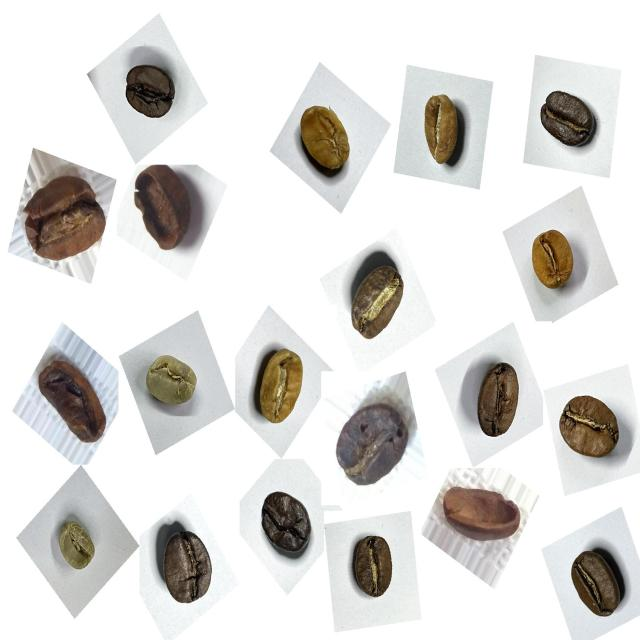bad: (17, 158, 115, 275), (326, 385, 416, 498), (32, 346, 115, 452), (125, 156, 208, 260), (440, 474, 522, 556)
dark: (151, 519, 226, 619), (250, 478, 320, 566), (533, 80, 607, 163), (116, 51, 185, 131)
green: (138, 344, 208, 423), (47, 511, 105, 582)
light: (289, 96, 361, 189), (248, 338, 316, 436), (409, 82, 475, 176), (522, 217, 586, 299)
medium: (339, 253, 415, 349), (550, 384, 631, 472), (561, 540, 634, 630), (464, 354, 531, 448), (342, 526, 405, 609)
